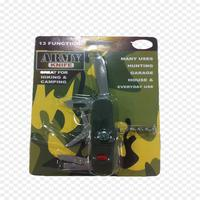knife: (85, 51, 123, 176)
